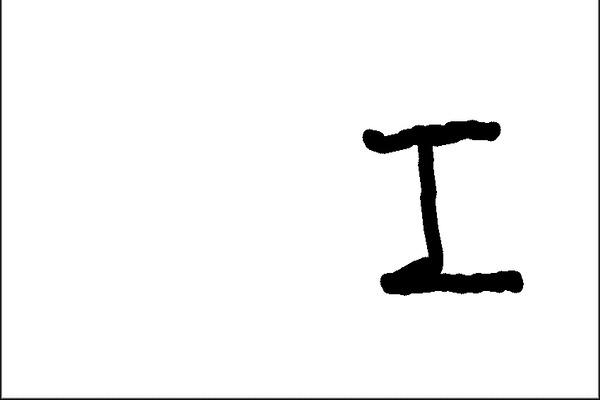i: (354, 114, 538, 304)
